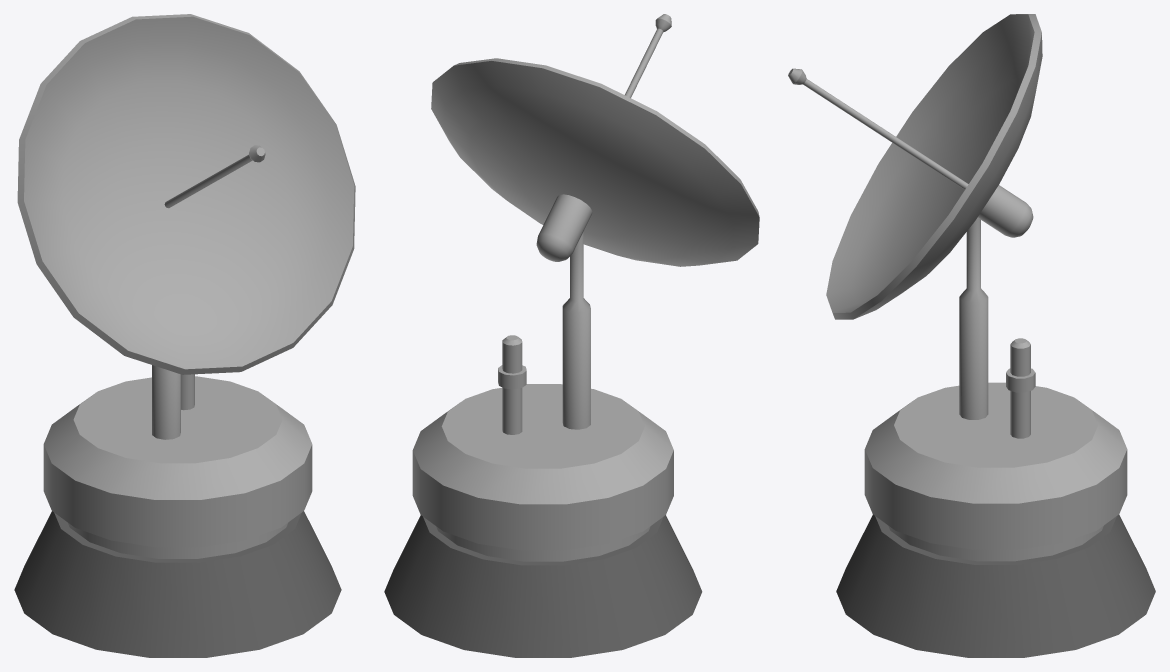
File: Roof_Radar.gltf
The picture shows the model from 3 angles, left to right: view 1: azimuth 30°, elevation 25°; view 2: azimuth 150°, elevation 25°; view 3: azimuth 270°, elevation 25°; orthographic projection. The views are drawn at different scales.
Parts seen in each view (by area): view 1: Roof_Radar; view 2: Roof_Radar; view 3: Roof_Radar.
Boxes of the visible parts, bbox=[...] form: Roof_Radar: bbox=[14, 14, 355, 657]; Roof_Radar: bbox=[384, 14, 759, 657]; Roof_Radar: bbox=[788, 14, 1155, 657].
Size of the model in its own units: 1.63 by 2.71 by 1.65.
1 material, 1 textured.
